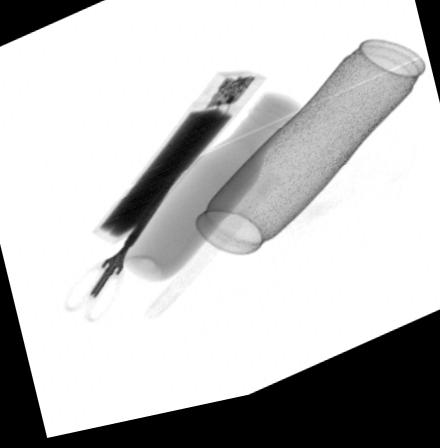Powerbank: (90, 79, 264, 248)
Scissors: (61, 189, 170, 327)
